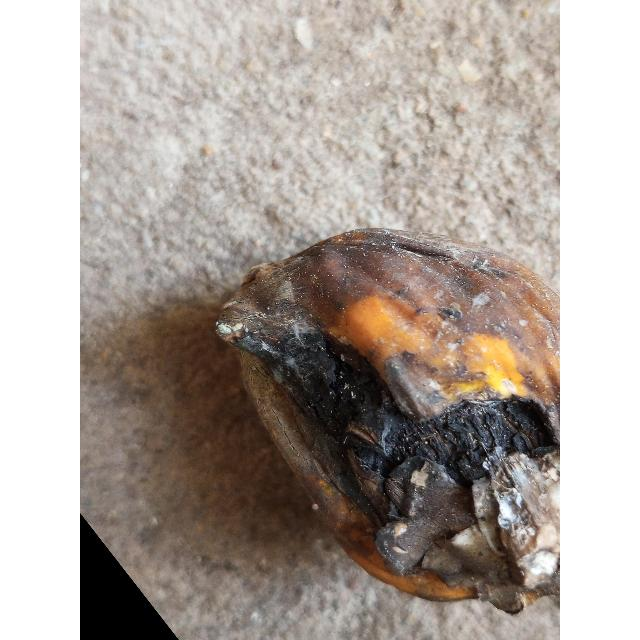damaged: (216, 229, 560, 613)
